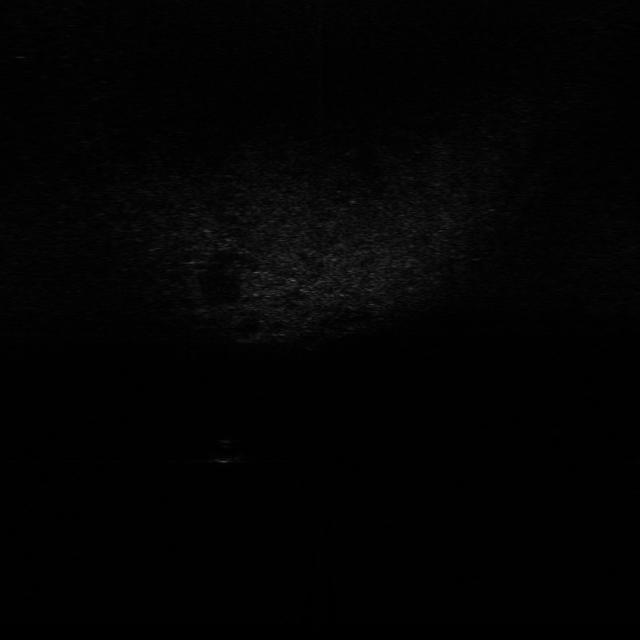ball: (206, 436, 248, 464)
